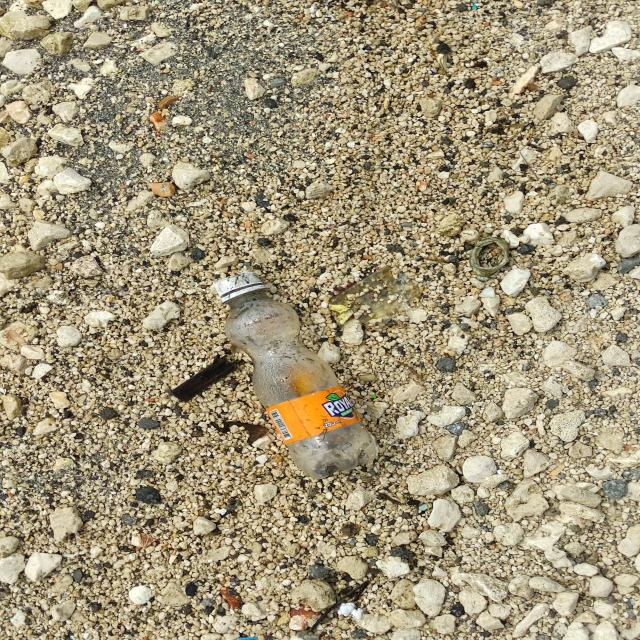plastic_waste: (213, 271, 381, 482)
